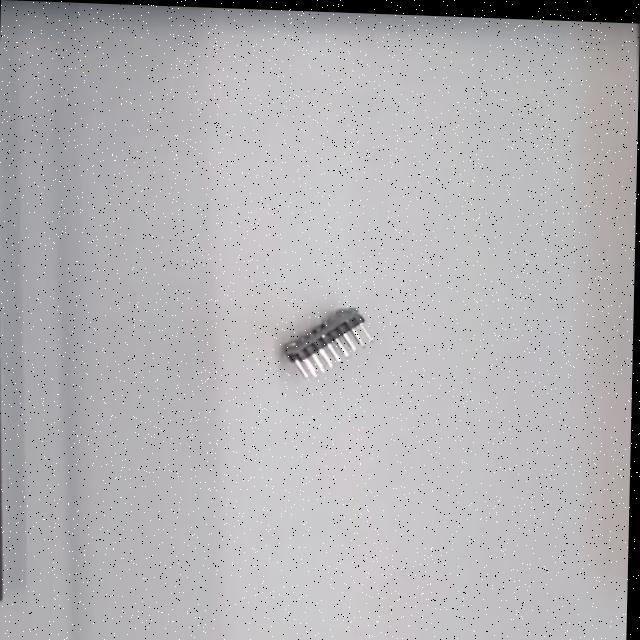Chip: (281, 306, 372, 381)
